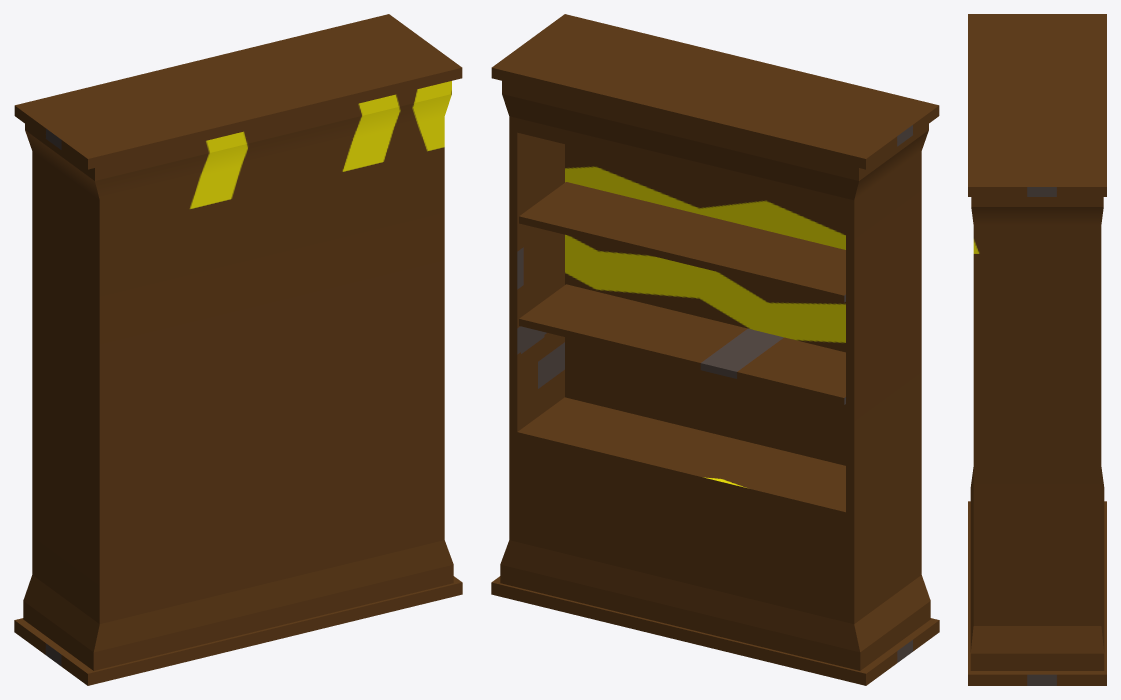
File: Cabinet1.fbx
3 renders of one model, left to right at view 1: azimuth 30°, elevation 25°; view 2: azimuth 150°, elevation 25°; view 3: azimuth 270°, elevation 25°, orthographic. The views are drawn at different scales.
Parts seen in each view (by area): view 1: Cabinet; view 2: Cabinet; view 3: Cabinet.
Boxes of the visible parts, x1,y1,x2,y2 form: Cabinet: (14, 14, 462, 685); Cabinet: (491, 14, 939, 685); Cabinet: (968, 14, 1106, 685).
Bounding box in the file's own units: 6.48 × 8.71 × 2.2.
